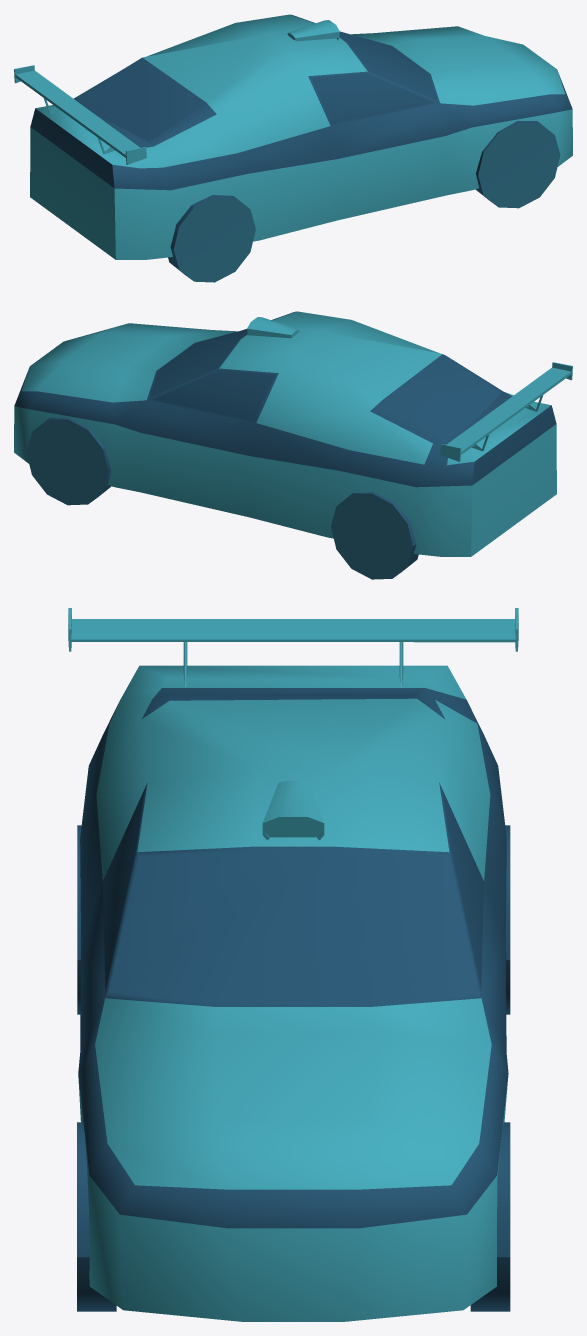
File: Race_LV2.FBX
The picture shows the model from 3 angles, top to bottom: view 1: azimuth 30°, elevation 25°; view 2: azimuth 150°, elevation 25°; view 3: azimuth 270°, elevation 25°; orthographic projection. The views are drawn at different scales.
Visible parts, largest first — view 1: Race; view 2: Race; view 3: Race.
Part boxes in pixels (<box>): Race: <box>14,14,572,282</box>; Race: <box>14,311,572,579</box>; Race: <box>68,608,518,1321</box>.
Bounding box in the file's own units: 5.25 × 1.88 × 2.15.
